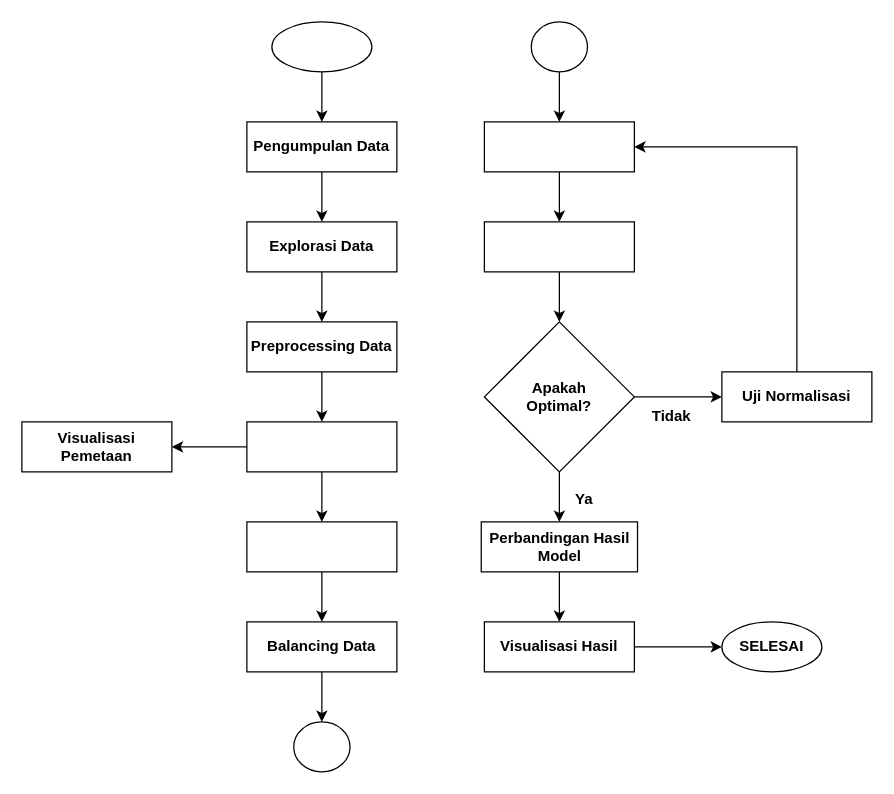
This 894x794 diagram has some shape labels left out. The centre of each missing label's shape, as x and y in pixels:
"Evaluasi Model" goes at [558,246].
"Labelling Data" goes at [321,546].
"Modelling" goes at [558,146].
"MULAI" goes at [321,46].
"Pemetaan" goes at [321,446].
